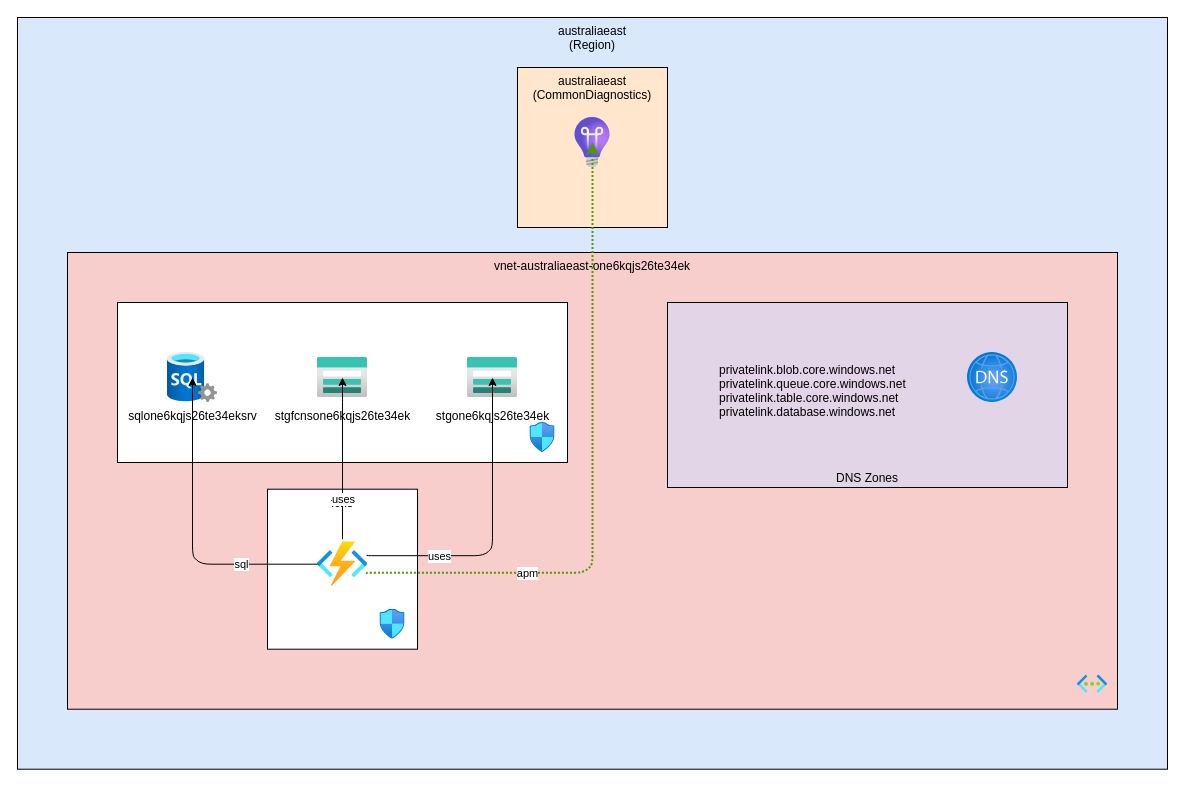
Some shapes in this 1185 by 787 pixel diagram are drawn without their labels. The box of each missing label's shape, as (x1, y1, x2, y2) in pixels:
grffcns-australiaeast-one6kqjs26te34ek: (317, 539, 367, 589)
grffcns-australiaeast-one6kqjs26te34ek-appi: (567, 117, 617, 167)
Private Dns: (967, 352, 1017, 402)
storage: (116, 302, 568, 462)
